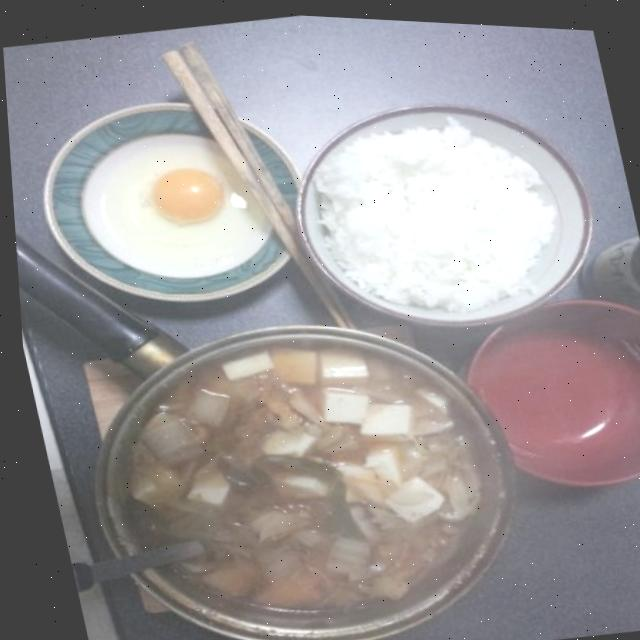米饭主食: (281, 55, 629, 342)
鸡蛋料理: (38, 74, 324, 321)
